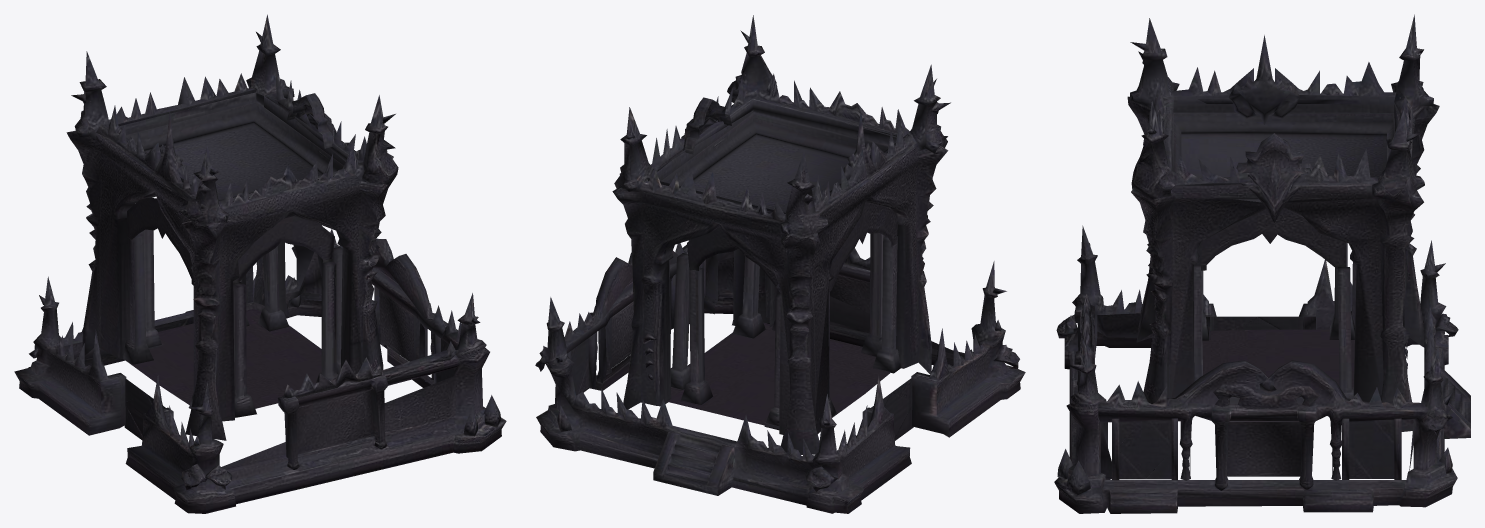
The model's file is vorthak_bone_barracks.glb.
The picture shows the model from 3 angles, left to right: view 1: azimuth 30°, elevation 25°; view 2: azimuth 150°, elevation 25°; view 3: azimuth 270°, elevation 25°; orthographic projection. The views are drawn at different scales.
Size of the model in its own units: 1.19 by 1.2 by 1.23.
Materials: 1 (1 with a texture image).
